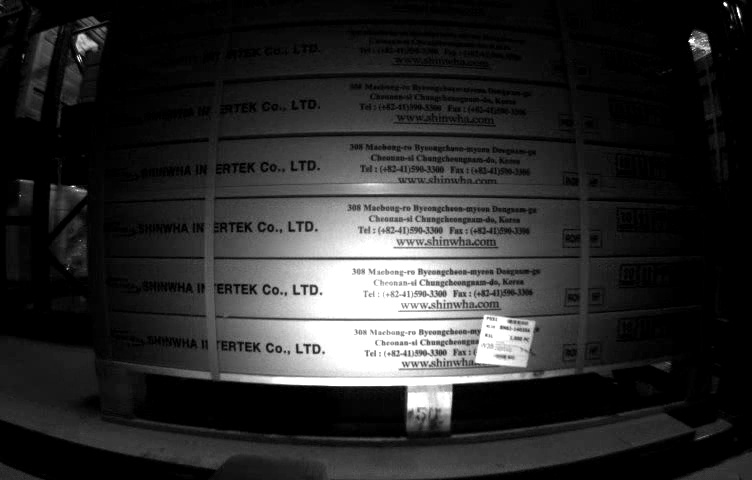True Barcode: (475, 313, 535, 370)
